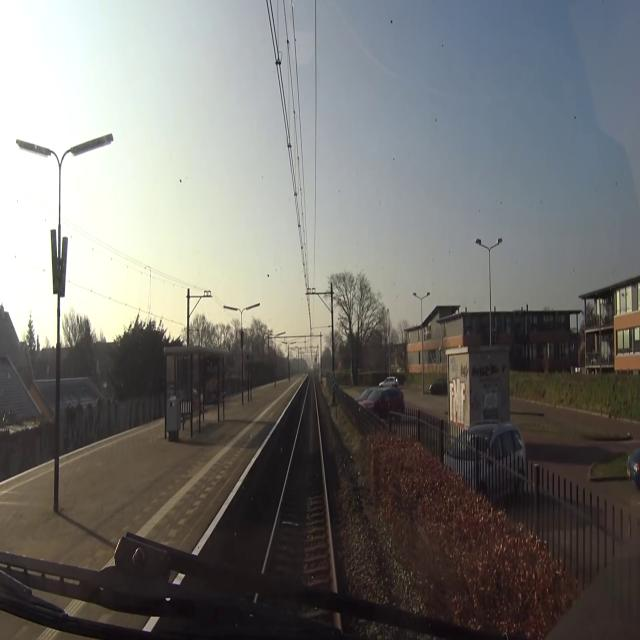rail-track: (264, 377, 333, 596)
